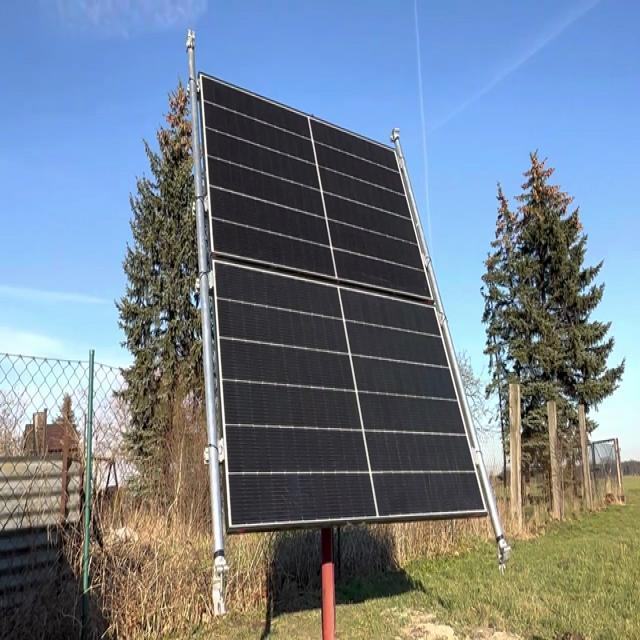Normal Solar Panel: (200, 72, 487, 529)
